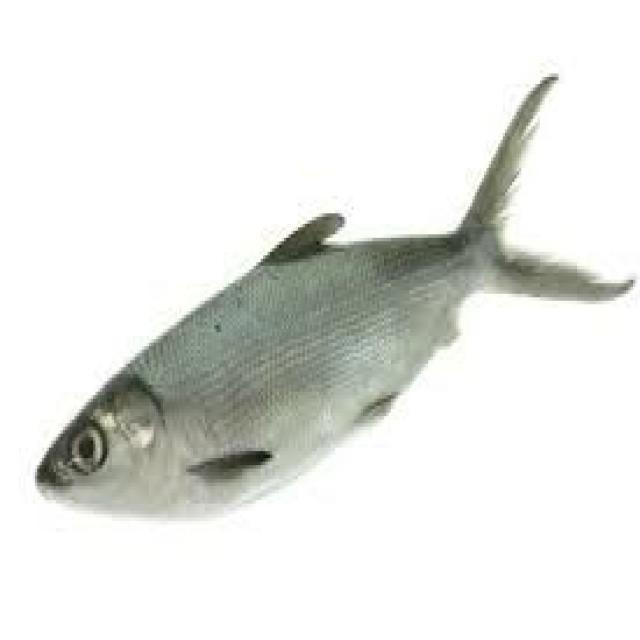Bangus: (9, 35, 640, 616)
